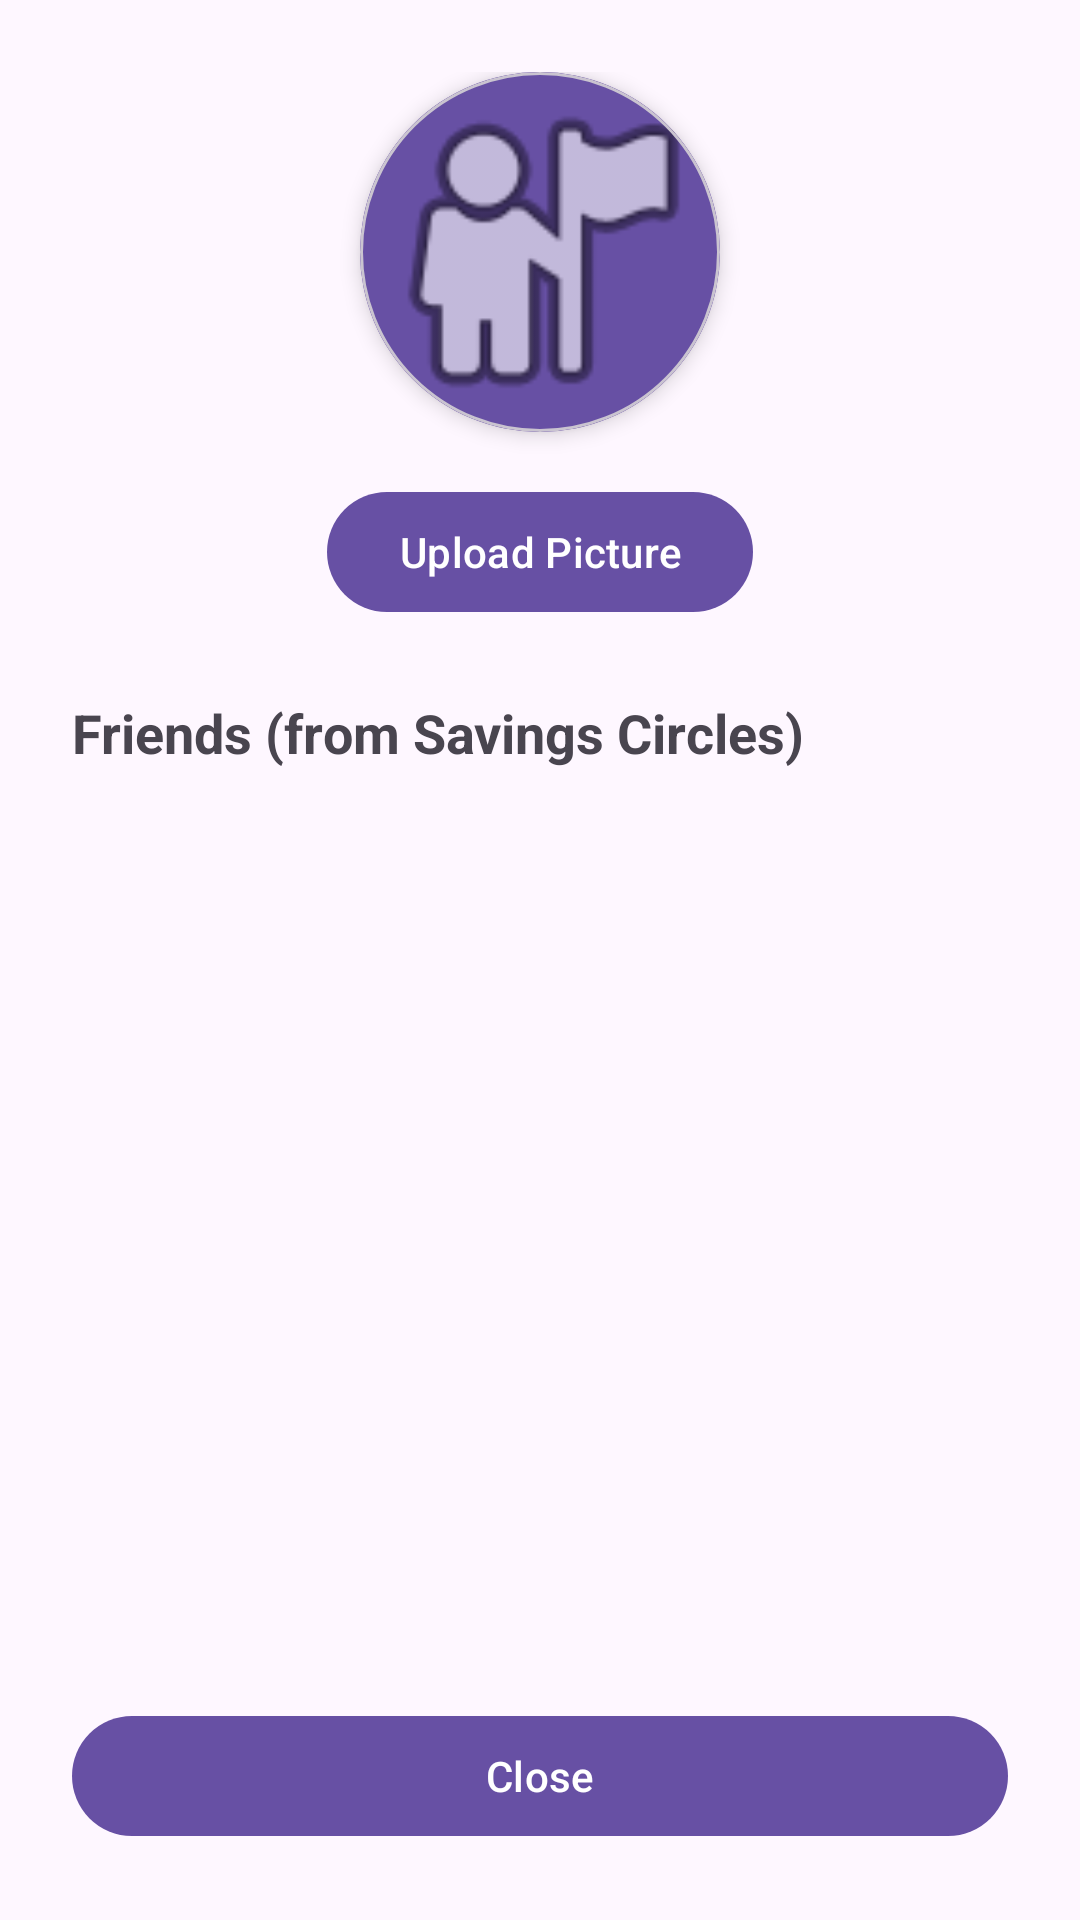

Locate icon controls on the screen. Image size 1080x1920, boxes as detection(x1, y1, x2, y2).
Profile picture: detection(360, 72, 720, 432)
